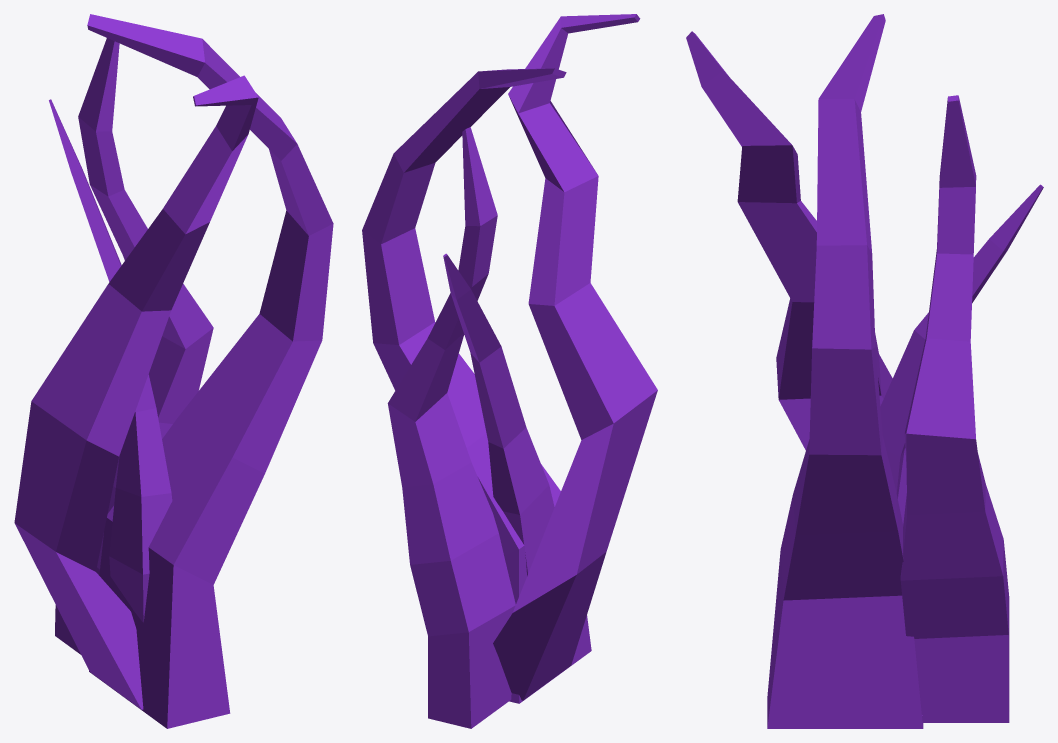
The model's file is Coral1.fbx.
The picture shows the model from 3 angles, left to right: view 1: azimuth 30°, elevation 25°; view 2: azimuth 150°, elevation 25°; view 3: azimuth 270°, elevation 25°; orthographic projection. The views are drawn at different scales.
Parts seen in each view (by area): view 1: Cube; view 2: Cube; view 3: Cube.
Part boxes in pixels (x1,y1,x2,y2): Cube: (14, 14, 333, 728); Cube: (362, 14, 657, 728); Cube: (686, 14, 1043, 728).
Size of the model in its own units: 85.57 by 201 by 96.4.
